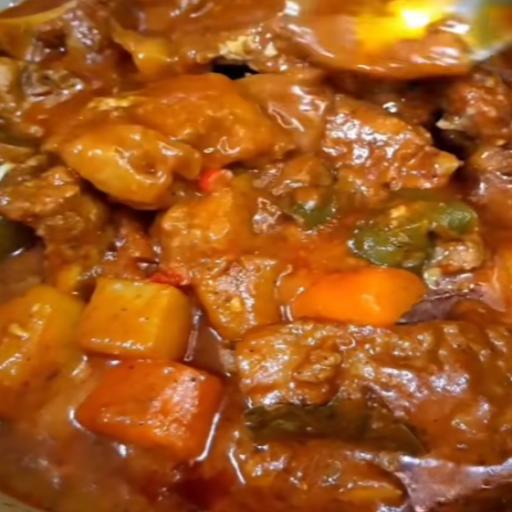pork caldereta: (0, 58, 511, 512)
